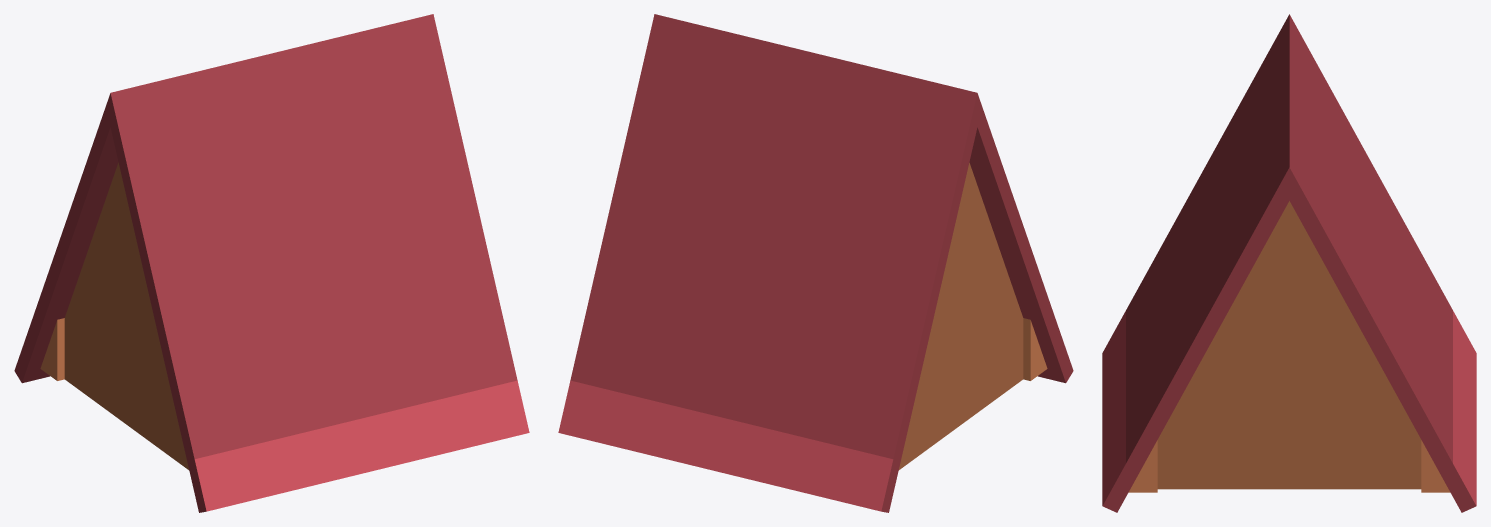
The model's file is roofHighGable.fbx.
3 views of the same model, side by side, from view 1: azimuth 30°, elevation 25°; view 2: azimuth 150°, elevation 25°; view 3: azimuth 270°, elevation 25° (orthographic). The views are drawn at different scales.
Visible parts, largest first — view 1: roofHighGable; view 2: roofHighGable; view 3: roofHighGable.
Boxes of the visible parts, left/top/right/bottom form: roofHighGable: left=14, top=14, right=529, bottom=512; roofHighGable: left=558, top=14, right=1073, bottom=512; roofHighGable: left=1102, top=14, right=1476, bottom=512.
Bounding box in the file's own units: 11 × 11.57 × 11.34.
